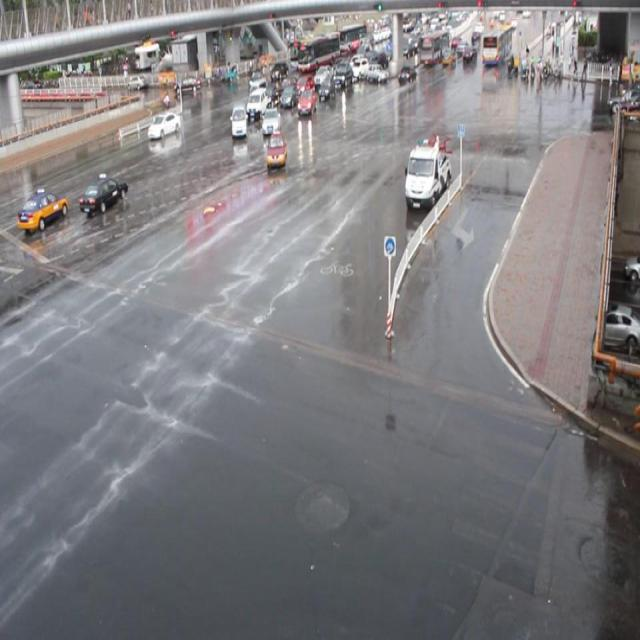bus: (404, 144, 452, 212)
car: (17, 187, 68, 229), (79, 172, 129, 213), (148, 110, 181, 139), (266, 130, 287, 166), (296, 88, 316, 115), (261, 108, 281, 134), (257, 88, 279, 111), (290, 76, 311, 98), (279, 84, 299, 107), (318, 78, 336, 98)
truck: (243, 89, 265, 122), (230, 102, 248, 137), (248, 78, 268, 100)
